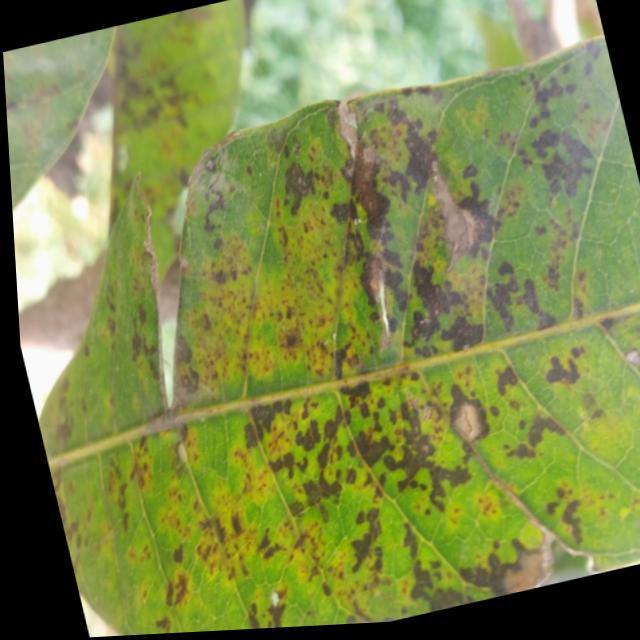Anthracnose: (458, 525, 562, 615), (428, 152, 501, 270), (399, 106, 442, 194), (343, 154, 393, 223), (403, 255, 455, 321), (442, 378, 492, 445), (483, 259, 522, 332), (438, 307, 491, 359), (520, 407, 565, 449), (285, 162, 314, 214), (545, 354, 583, 388), (489, 362, 522, 396), (248, 603, 286, 628), (562, 500, 582, 543), (523, 278, 540, 313), (329, 201, 350, 223), (170, 544, 191, 564), (625, 348, 639, 366)
black die: (274, 385, 437, 525), (530, 110, 598, 202)
